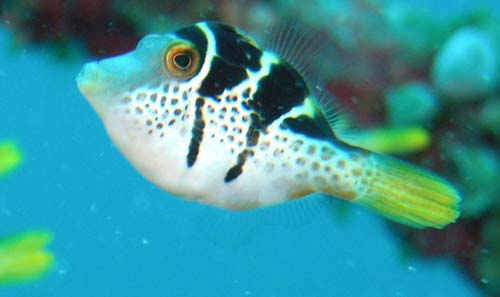fish: (77, 20, 464, 230)
